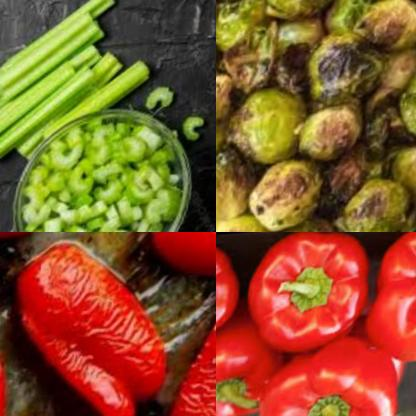bell pepper: (2, 232, 178, 416), (242, 232, 380, 365), (256, 346, 412, 416), (216, 303, 291, 416), (369, 232, 416, 367), (169, 297, 216, 416), (136, 232, 216, 297), (216, 241, 250, 364)
brus capusta: (216, 0, 416, 232)
celery: (0, 0, 167, 178), (15, 112, 190, 232), (145, 88, 178, 120), (182, 118, 209, 151)
